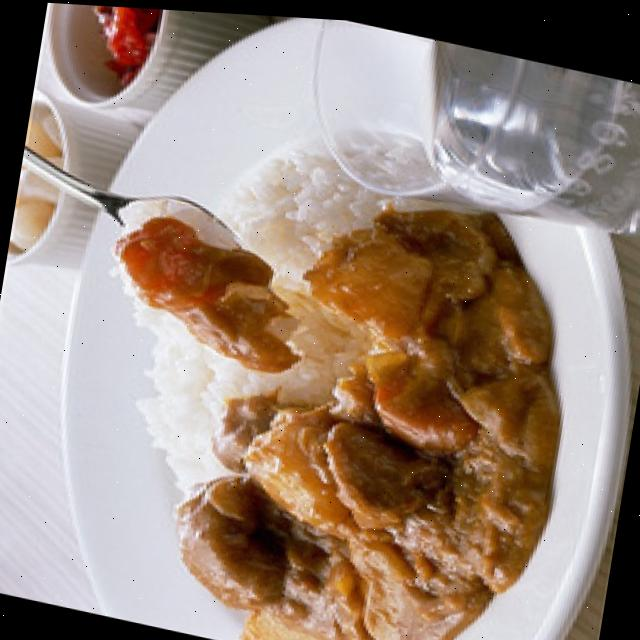Wet: (45, 69, 600, 640)
